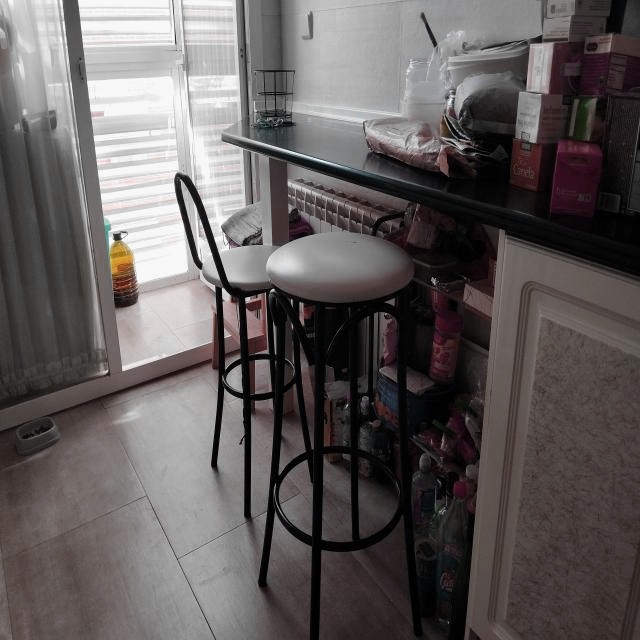cabinet: (464, 231, 640, 640)
chair: (259, 232, 423, 640), (174, 173, 278, 521)
countertop: (222, 115, 640, 277)
